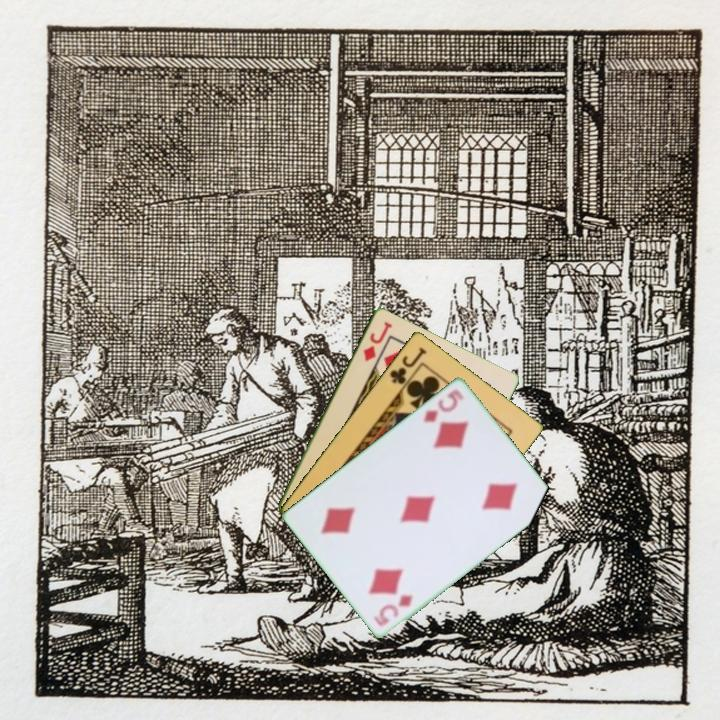5d: (419, 385, 467, 425), (370, 591, 416, 629)
Jc: (386, 343, 429, 387)
Jd: (359, 318, 395, 364)
